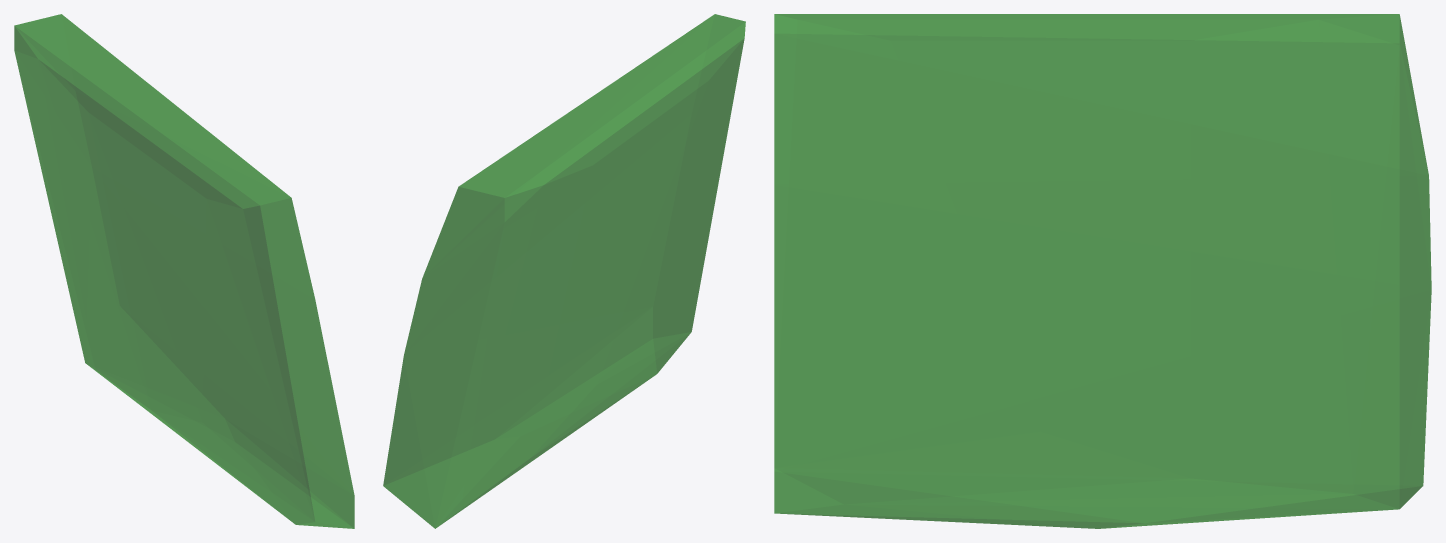
3 views of the same model, side by side, from view 1: azimuth 30°, elevation 25°; view 2: azimuth 150°, elevation 25°; view 3: azimuth 270°, elevation 25° (orthographic). The views are drawn at different scales.
Parts seen in each view (by area): view 1: Shape_IndexedFaceSet.015_Shape_IndexedFaceSet.8987; view 2: Shape_IndexedFaceSet.015_Shape_IndexedFaceSet.8987; view 3: Shape_IndexedFaceSet.015_Shape_IndexedFaceSet.8987.
Boxes of the visible parts, <box> form: Shape_IndexedFaceSet.015_Shape_IndexedFaceSet.8987: <box>14,14,354,528</box>; Shape_IndexedFaceSet.015_Shape_IndexedFaceSet.8987: <box>383,14,745,528</box>; Shape_IndexedFaceSet.015_Shape_IndexedFaceSet.8987: <box>774,14,1431,528</box>.
Bounding box in the file's own units: 0.0969 × 0.2676 × 0.3533.
